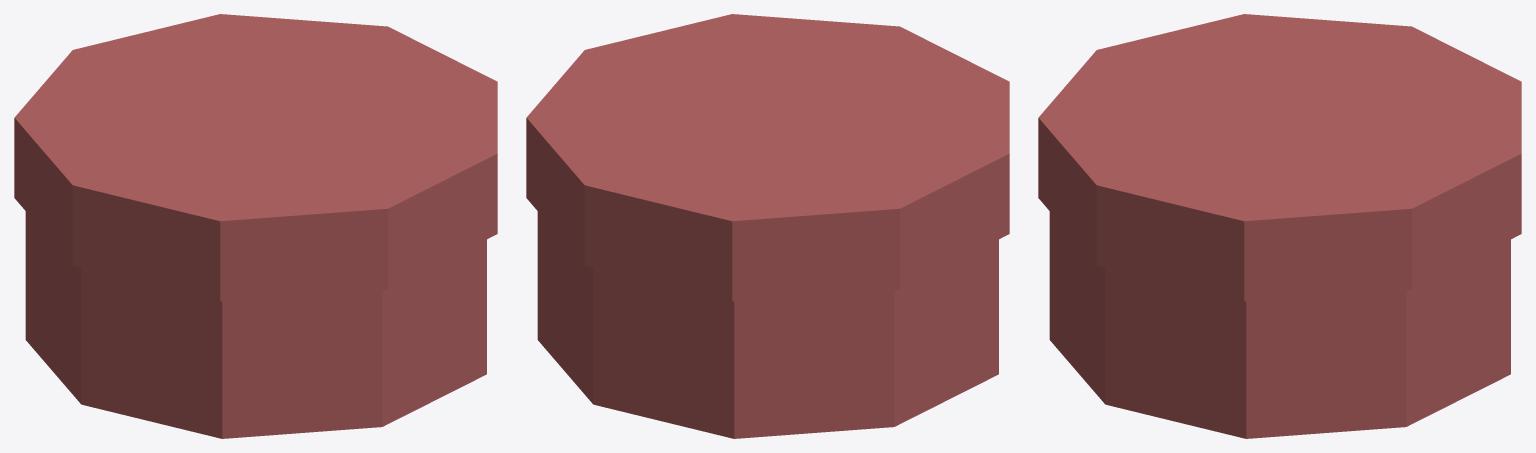
The picture shows the model from 3 angles, left to right: view 1: azimuth 30°, elevation 25°; view 2: azimuth 150°, elevation 25°; view 3: azimuth 270°, elevation 25°; orthographic projection.
Parts seen in each view (by area): view 1: Box_15; view 2: Box_15; view 3: Box_15.
Part boxes in pixels (x1,y1,x2,y2): Box_15: (14,14,497,438); Box_15: (526,14,1009,438); Box_15: (1038,14,1521,438).
Size of the model in its own units: 11.22 by 11.05 by 5.61.
